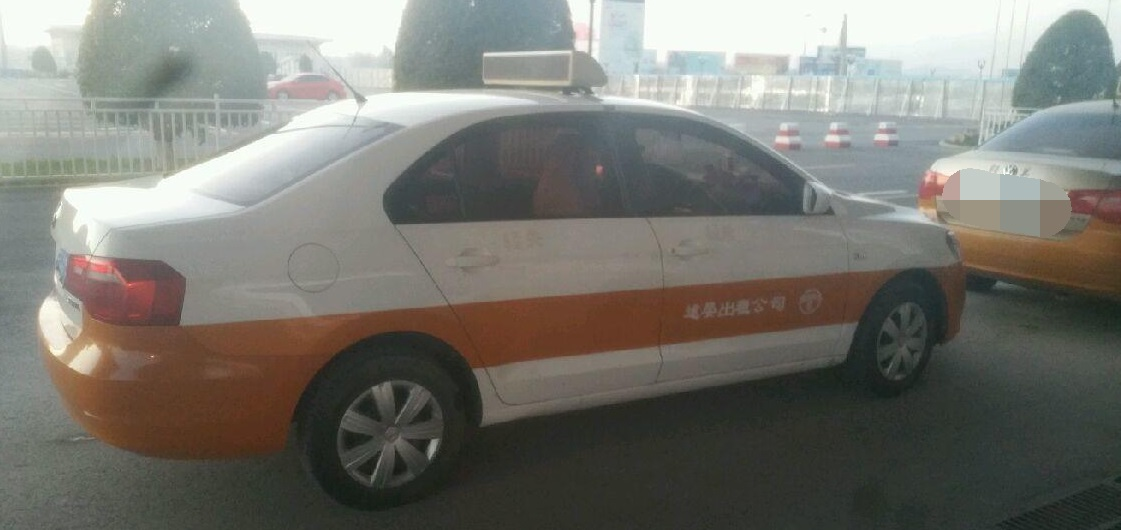taxi: (32, 47, 968, 510)
